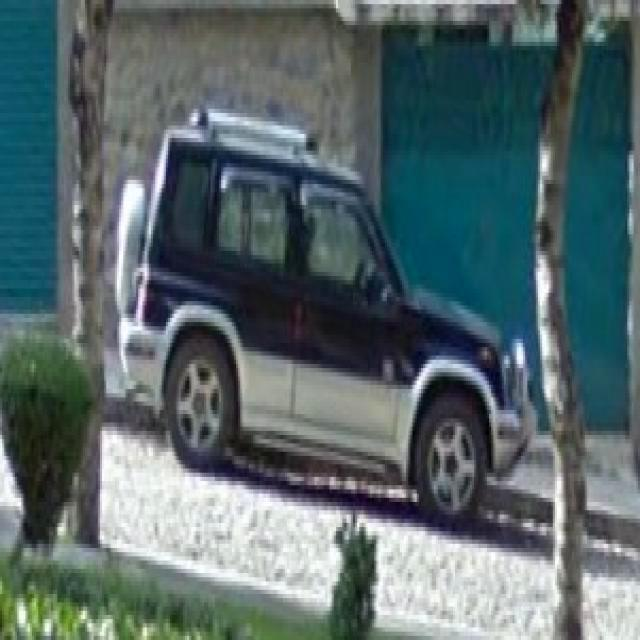Car: (114, 129, 538, 534)
